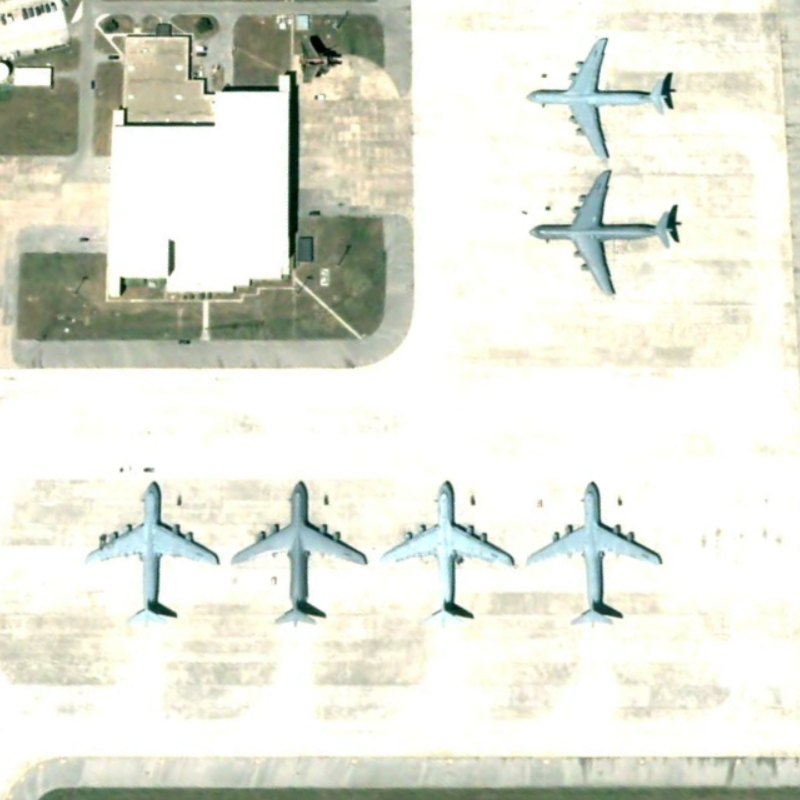A4: (519, 467, 664, 636), (225, 472, 376, 630), (77, 472, 226, 631), (520, 167, 688, 304), (379, 472, 517, 628), (524, 32, 684, 165)
